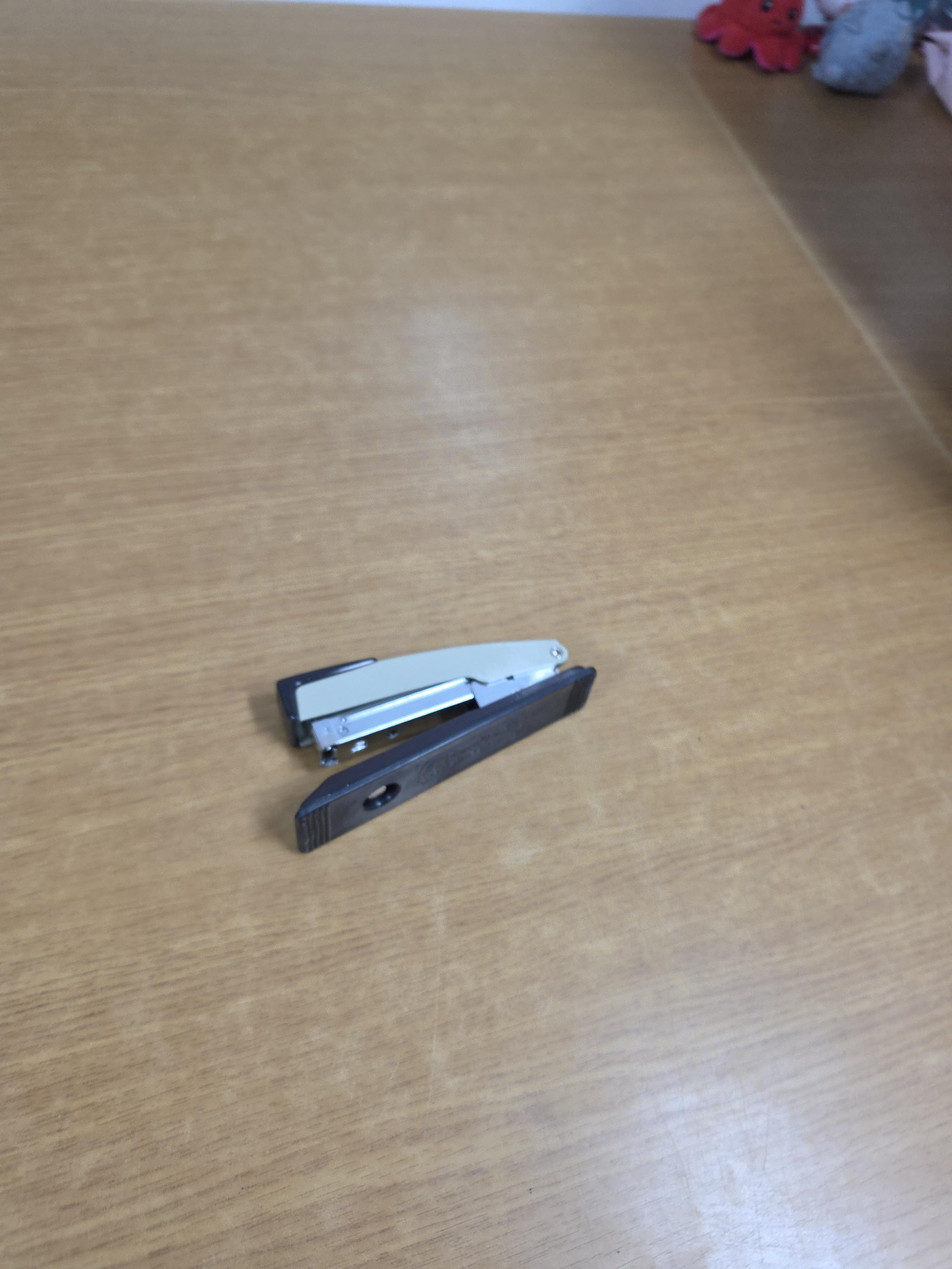stapler: (274, 638, 599, 853)
